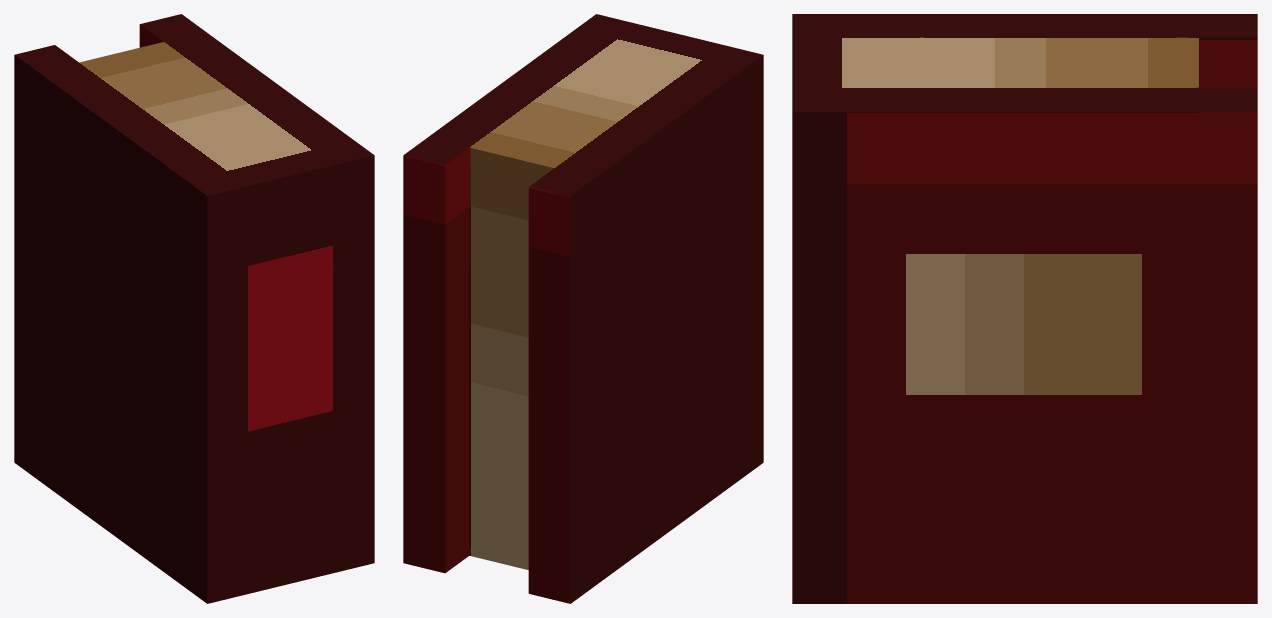
File: book_642x20.obj
3 renders of one model, left to right at view 1: azimuth 30°, elevation 25°; view 2: azimuth 150°, elevation 25°; view 3: azimuth 270°, elevation 25°, orthographic. The views are drawn at different scales.
Visible parts, largest first — view 1: Cube; view 2: Cube; view 3: Cube.
Boxes of the visible parts, x1,y1,x2,y2 form: Cube: (14,14,374,603); Cube: (403,14,763,603); Cube: (792,14,1257,603).
Size of the model in its own units: 0.5 by 1.17 by 1.
